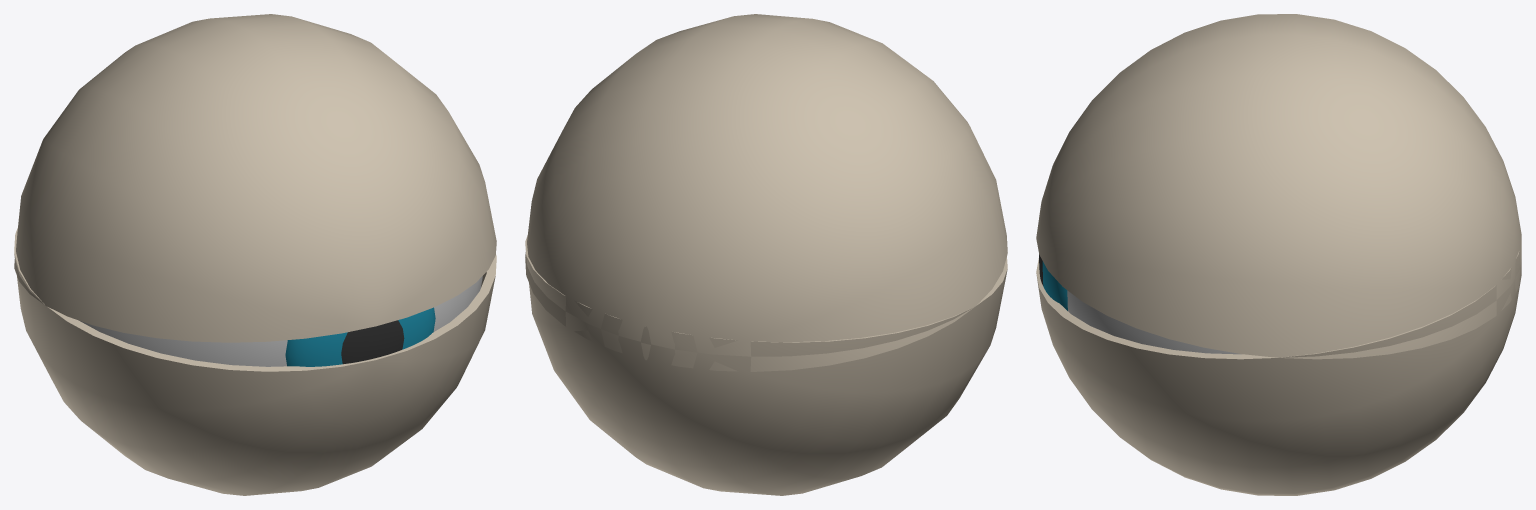
File: Eye_OpenClose.fbx
The picture shows the model from 3 angles, left to right: view 1: azimuth 30°, elevation 25°; view 2: azimuth 150°, elevation 25°; view 3: azimuth 270°, elevation 25°; orthographic projection.
Parts seen in each view (by area): view 1: upperEyeLid, lowerEyeLid, Eye, Iris, Pupil; view 2: upperEyeLid, lowerEyeLid; view 3: upperEyeLid, lowerEyeLid, Eye, Iris.
Part boxes in pixels (box(x1,y1,x2,y2)): upperEyeLid: box(14, 14, 496, 342); lowerEyeLid: box(14, 228, 496, 495); Eye: box(79, 276, 482, 366); Iris: box(285, 307, 435, 366); Pupil: box(341, 320, 404, 364); upperEyeLid: box(525, 14, 1007, 371); lowerEyeLid: box(525, 235, 1007, 495); upperEyeLid: box(1036, 14, 1521, 359); lowerEyeLid: box(1036, 250, 1521, 495); Eye: box(1067, 290, 1241, 354); Iris: box(1042, 261, 1067, 310).
Size of the model in its own units: 25.33 by 25.25 by 25.25.
